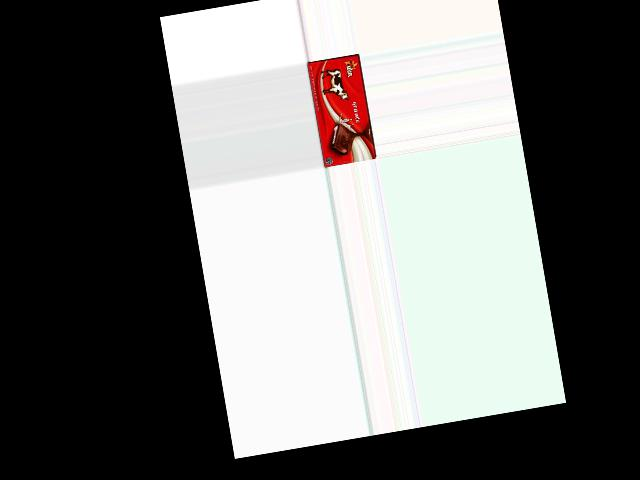chocolate: (305, 51, 376, 167)
